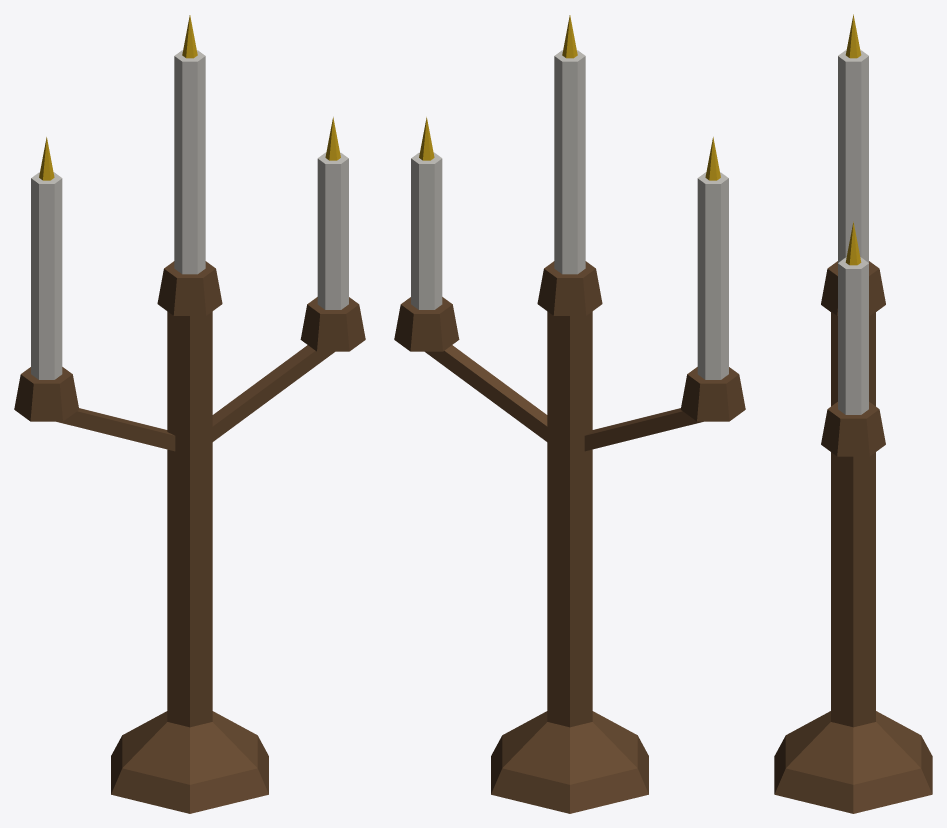
The model's file is candle-holder-21.glb.
3 views of the same model, side by side, from view 1: azimuth 30°, elevation 25°; view 2: azimuth 150°, elevation 25°; view 3: azimuth 270°, elevation 25° (orthographic).
Parts seen in each view (by area): view 1: candle_holder_21; view 2: candle_holder_21; view 3: candle_holder_21.
Part boxes in pixels (x1,y1,x2,y2): candle_holder_21: (14,15,365,813); candle_holder_21: (394,15,745,813); candle_holder_21: (774,14,932,813).
Bounding box in the file's own units: 0.297 × 0.6445 × 0.1212.
